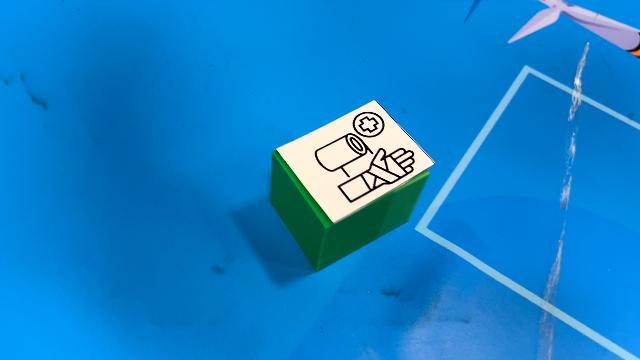bandage: (269, 99, 435, 271)
